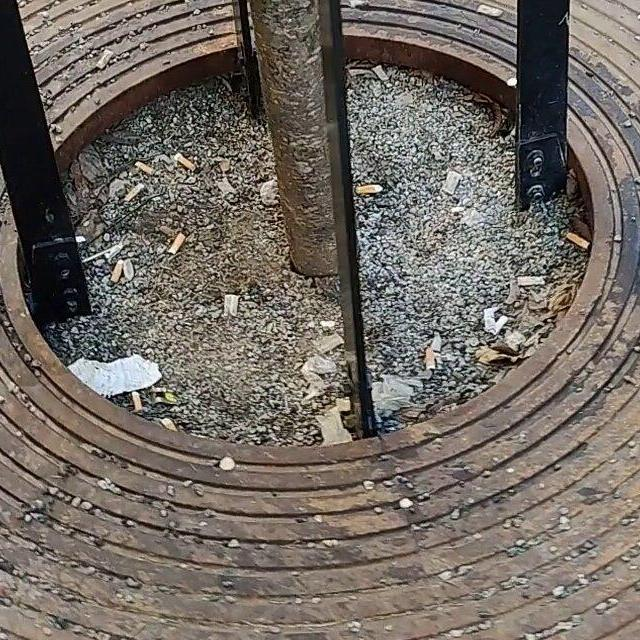Cigarette Butt: (517, 270, 547, 286), (566, 231, 590, 249), (168, 235, 187, 255), (176, 153, 194, 172), (132, 388, 145, 413), (112, 258, 121, 287), (133, 162, 154, 174), (354, 186, 383, 194), (423, 350, 433, 371)
